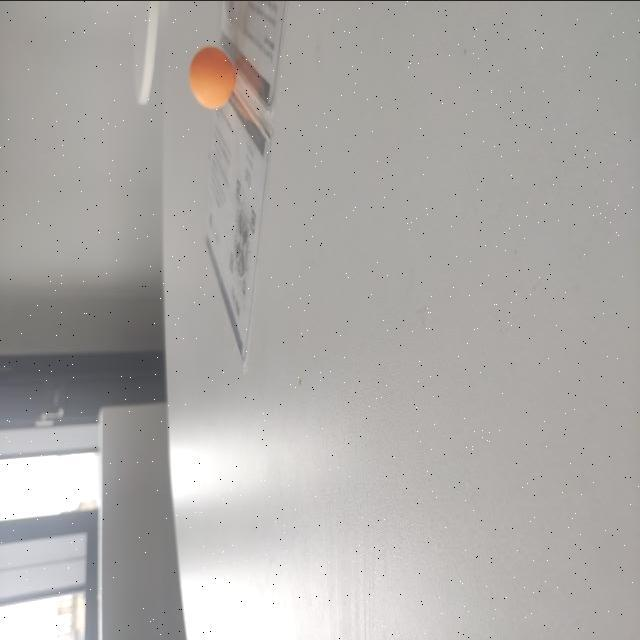ping-pong-ball: (189, 44, 237, 109)
